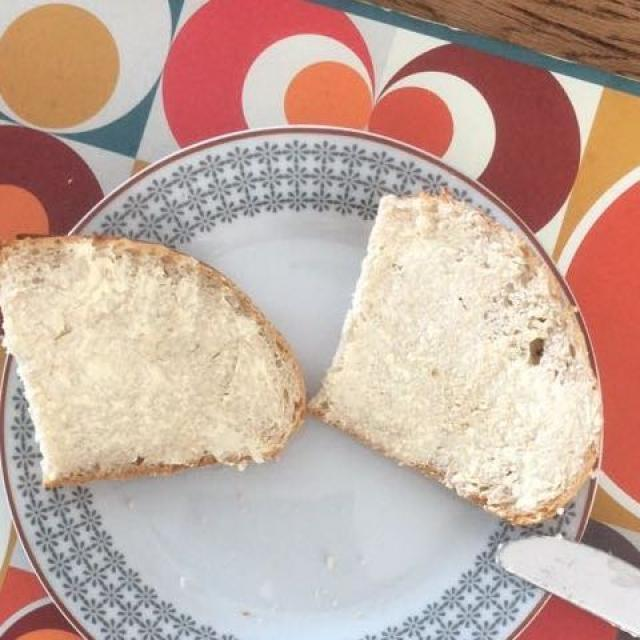bread: (15, 174, 586, 515)
